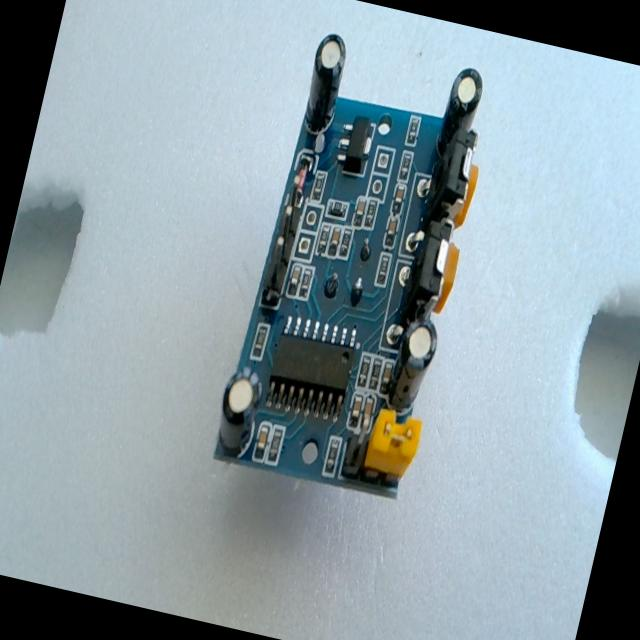Electrolytic capacitor: (382, 314, 441, 418), (297, 29, 352, 138), (210, 363, 268, 460), (432, 62, 487, 164)
IC: (260, 331, 356, 428)
pinheader: (260, 170, 310, 310)
